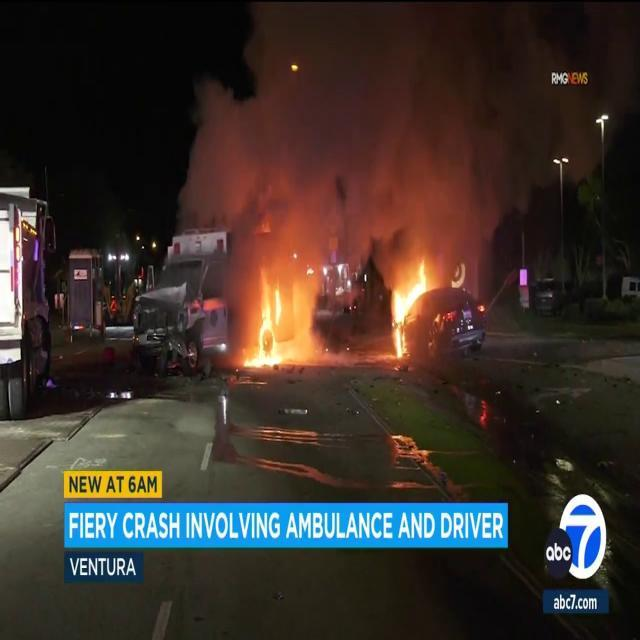Fire: (235, 264, 332, 374), (386, 255, 434, 357)
Smoke: (178, 1, 528, 244)
